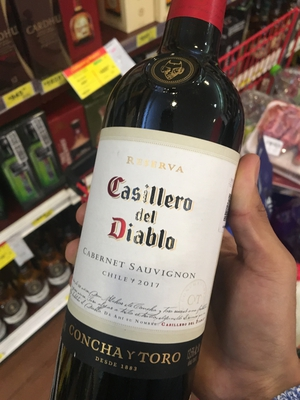casillero del diablo cabernet sauvignon: (60, 25, 244, 400)
